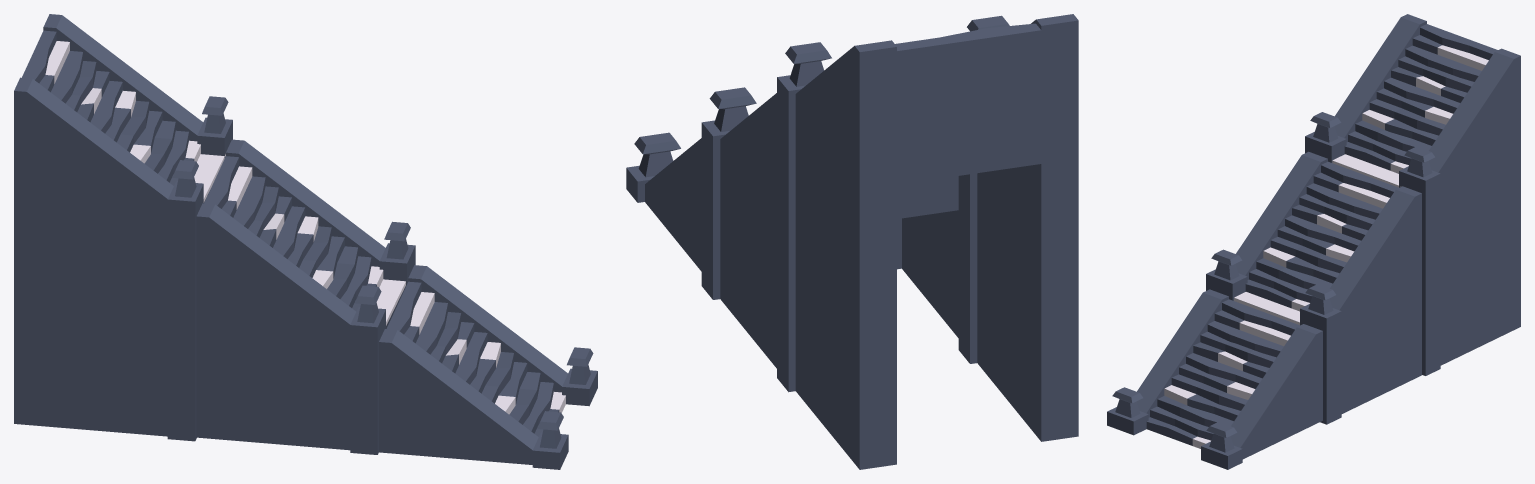
File: Stairs.fbx
3 renders of one model, left to right at view 1: azimuth 30°, elevation 25°; view 2: azimuth 150°, elevation 25°; view 3: azimuth 270°, elevation 25°, orthographic. The views are drawn at different scales.
Visible parts, largest first — view 1: Stairs; view 2: Stairs; view 3: Stairs.
Boxes of the visible parts, bbox=[...] form: Stairs: bbox=[14, 14, 597, 469]; Stairs: bbox=[626, 14, 1078, 469]; Stairs: bbox=[1107, 14, 1520, 469].
Bounding box in the file's own units: 1420 × 961 × 1328.
